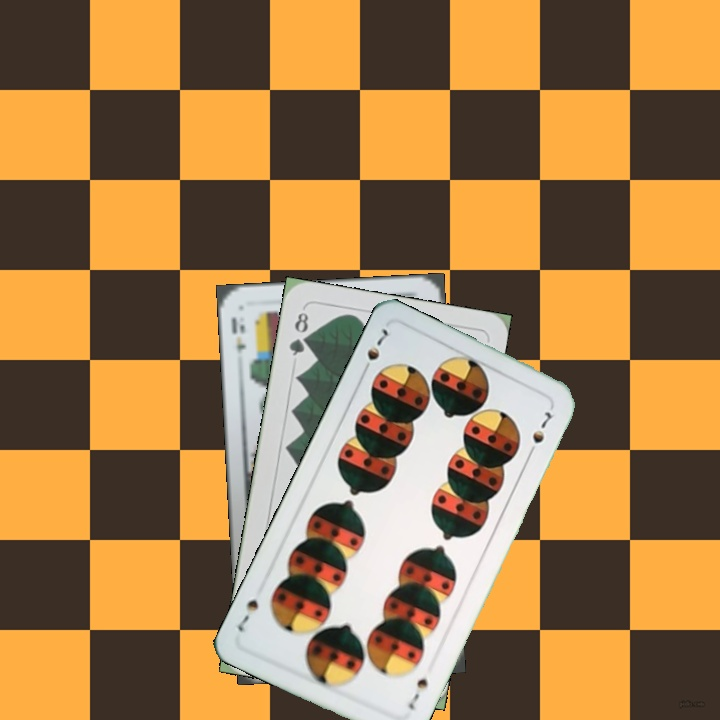EK: (227, 314, 249, 368)
G8: (285, 305, 311, 358)
S7: (357, 324, 391, 378), (404, 674, 431, 713)
